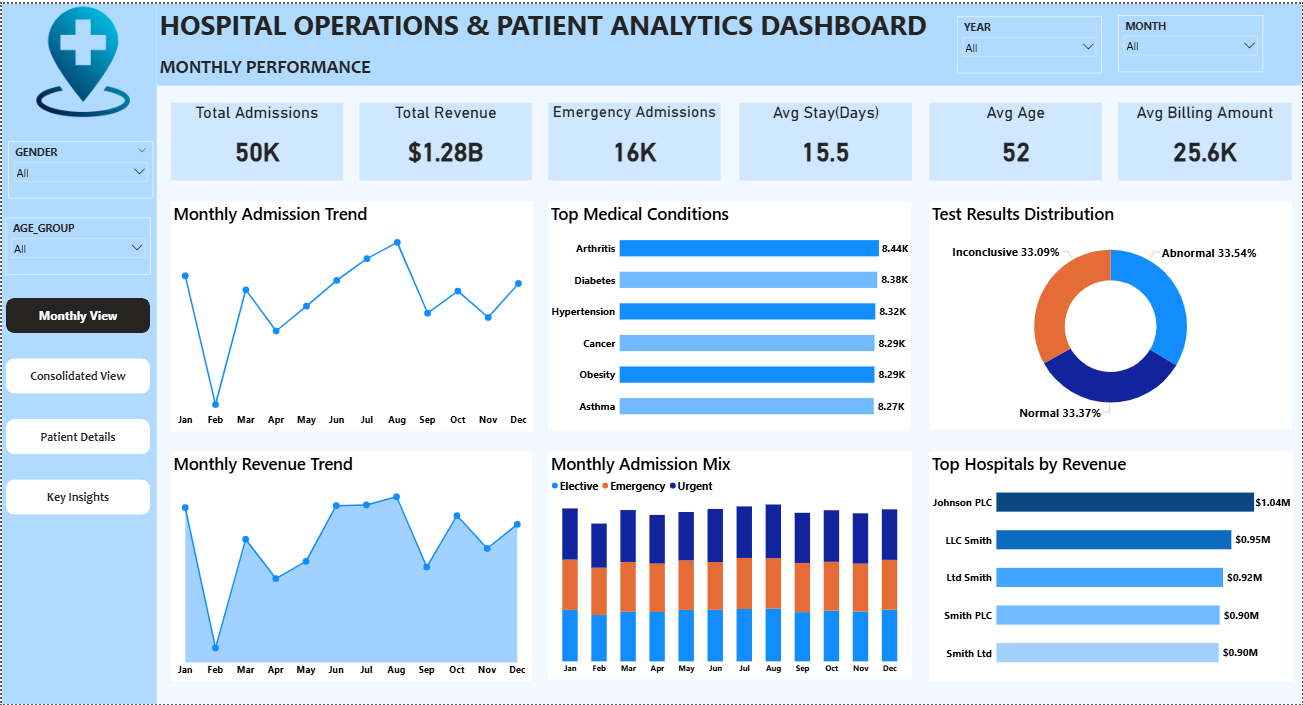

What the dashboard file says about the page in this screenshot:
{"tool":"powerbi","page":{"name":"Monthly View","canvas":[2600,1400],"ordinal":0},"visuals":[{"type":"shape","box":[0,0,309.4,1700.6],"z":0},{"type":"shape","box":[310,0,2290.5,163],"z":1000},{"type":"textbox","box":[310,0,1699.8,98.9],"z":2000},{"type":"textbox","box":[309.6,98.2,448.1,62.9],"z":3000},{"type":"card","title":"Total Admissions","fields":{"Values":["MEASURE Table.TOTAL PATIENTS"]},"box":[337.8,197.1,344.8,154.8],"z":4000},{"type":"card","title":"Total Revenue","fields":{"Values":["MEASURE Table.Total Revenue Display"]},"box":[715.5,197.1,344.8,154.8],"z":5000},{"type":"card","title":"Emergency Admissions","fields":{"Values":["MEASURE Table.EMERGENCY ADMISSIONS"]},"box":[1092.6,197.1,344.8,154.8],"z":6000},{"type":"card","title":"Avg Stay(Days)","fields":{"Values":["MEASURE Table.AVG STAY"]},"box":[1475.5,197.1,344.8,154.8],"z":7000},{"type":"card","title":"Avg Age","fields":{"Values":["MEASURE Table.AVG AGE"]},"box":[1855.6,197.1,344.8,154.8],"z":8000},{"type":"lineChart","title":"Monthly Admission Trend","fields":{"Category":["DATE TABLE.MONTH"],"Y":["MEASURE Table.TOTAL PATIENTS"]},"box":[337.8,394.1,724.9,459.8],"z":9000},{"type":"areaChart","title":"Monthly Revenue Trend","fields":{"Category":["DATE TABLE.MONTH"],"Y":["MEASURE Table.TOTAL REVENUE"]},"box":[337.8,896.1,722.5,459.8],"z":10000},{"type":"columnChart","title":"Monthly Admission Mix","fields":{"Category":["DATE TABLE.MONTH"],"Series":["HEALTHCAREANALYSIS.ADMISSION_TYPE"],"Y":["MEASURE Table.TOTAL PATIENTS"]},"box":[1092.6,896.2,727.5,455.7],"z":11000},{"type":"barChart","title":"Top Hospitals by Revenue","fields":{"Category":["HEALTHCAREANALYSIS.HOSPITAL"],"Y":["MEASURE Table.TOTAL REVENUE"]},"box":[1855.6,896.1,727.2,459.8],"z":12000},{"type":"card","title":"Avg Billing Amount","fields":{"Values":["MEASURE Table.AVG REVENUE"]},"box":[2233.3,197.1,347.2,154.8],"z":13000},{"type":"donutChart","title":"Test Results Distribution","fields":{"Y":["MEASURE Table.TOTAL PATIENTS"],"Category":["HEALTHCAREANALYSIS.TEST_RESULTS"]},"box":[1855.6,394.1,724.9,455.1],"z":14000},{"type":"barChart","title":"Top Medical Conditions","fields":{"Category":["HEALTHCAREANALYSIS.MEDICAL_CONDITION"],"Y":["MEASURE Table.TOTAL PATIENTS"]},"box":[1092.6,395.2,725,458.2],"z":15000},{"type":"slicer","fields":{"Values":["DATE TABLE.YEAR"]},"box":[1910.7,25.2,289.5,113.3],"z":16000},{"type":"slicer","fields":{"Values":["DATE TABLE.MONTH"]},"box":[2233,22.7,289.5,113.3],"z":17000},{"type":"slicer","fields":{"Values":["HEALTHCAREANALYSIS.AGE_GROUP"]},"box":[7.6,428,289.5,113.3],"z":18000},{"type":"slicer","fields":{"Values":["HEALTHCAREANALYSIS.GENDER"]},"box":[12.6,274.4,289.5,113.3],"z":19000},{"type":"pageNavigator","title":"Menu","box":[7.6,586.6,289.5,435.5],"z":20000},{"type":"image","box":[7.6,0,309.6,231.6],"z":21000}]}

Visuals, with their boxes in screenshot pixels (x1, y1, x2, y2), scaled from the page's 2600x1400 canvas onto the 1303x705 screenshot:
shape: [left=0, top=0, right=155, bottom=704]
shape: [left=155, top=0, right=1302, bottom=82]
textbox: [left=155, top=0, right=1007, bottom=50]
textbox: [left=155, top=49, right=380, bottom=81]
"Total Admissions" card: [left=169, top=99, right=342, bottom=177]
"Total Revenue" card: [left=359, top=99, right=531, bottom=177]
"Emergency Admissions" card: [left=548, top=99, right=720, bottom=177]
"Avg Stay(Days)" card: [left=739, top=99, right=912, bottom=177]
"Avg Age" card: [left=930, top=99, right=1103, bottom=177]
"Monthly Admission Trend" lineChart: [left=169, top=198, right=533, bottom=430]
"Monthly Revenue Trend" areaChart: [left=169, top=451, right=531, bottom=683]
"Monthly Admission Mix" columnChart: [left=548, top=451, right=912, bottom=681]
"Top Hospitals by Revenue" barChart: [left=930, top=451, right=1294, bottom=683]
"Avg Billing Amount" card: [left=1119, top=99, right=1293, bottom=177]
"Test Results Distribution" donutChart: [left=930, top=198, right=1293, bottom=428]
"Top Medical Conditions" barChart: [left=548, top=199, right=911, bottom=430]
slicer - DATE TABLE.YEAR: [left=958, top=13, right=1103, bottom=70]
slicer - DATE TABLE.MONTH: [left=1119, top=11, right=1264, bottom=68]
slicer - HEALTHCAREANALYSIS.AGE_GROUP: [left=4, top=216, right=149, bottom=273]
slicer - HEALTHCAREANALYSIS.GENDER: [left=6, top=138, right=151, bottom=195]
"Menu" pageNavigator: [left=4, top=295, right=149, bottom=515]
image: [left=4, top=0, right=159, bottom=117]
